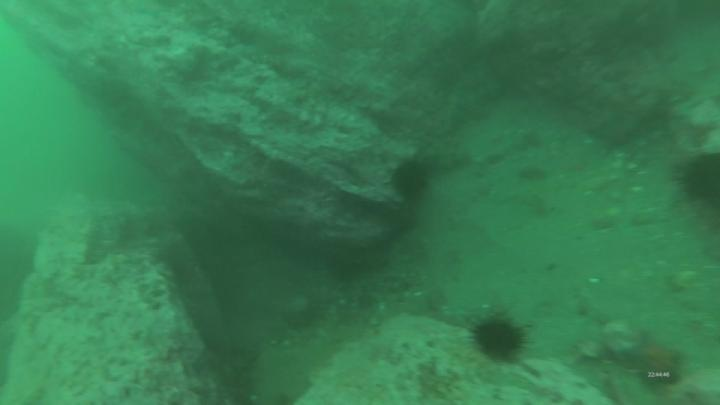echinus: (463, 308, 536, 367), (680, 151, 720, 209), (391, 158, 433, 203)
starfish: (618, 327, 690, 387)
